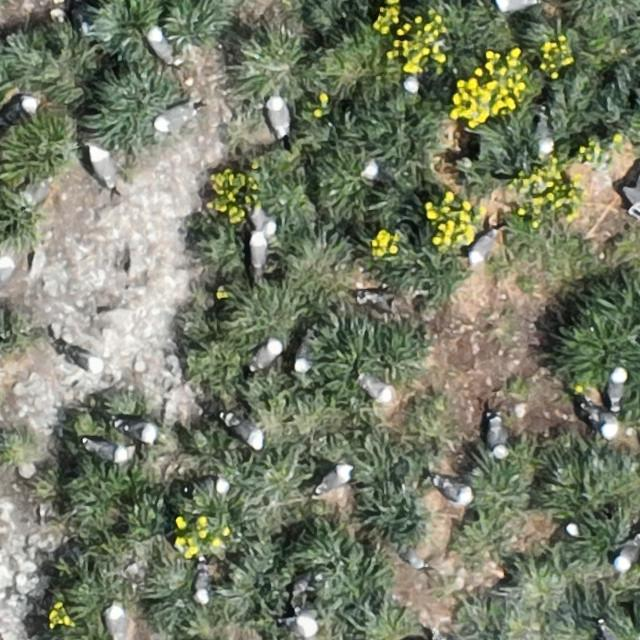umineko: (227, 420, 263, 447), (92, 149, 116, 186), (117, 420, 157, 442), (252, 338, 282, 367), (267, 99, 289, 138), (587, 408, 616, 437), (318, 466, 351, 491), (156, 108, 190, 132), (436, 479, 471, 502), (86, 441, 126, 461), (469, 231, 494, 262), (149, 32, 173, 64), (615, 538, 638, 570), (362, 376, 392, 400), (250, 232, 268, 270), (2, 98, 33, 120), (68, 351, 100, 372), (488, 418, 506, 454), (607, 370, 624, 406), (108, 607, 127, 638), (194, 568, 211, 602), (251, 212, 275, 236), (402, 548, 427, 570), (364, 292, 391, 312), (296, 338, 312, 369), (202, 477, 230, 494), (494, 0, 536, 11), (364, 160, 385, 181), (600, 624, 621, 639)
